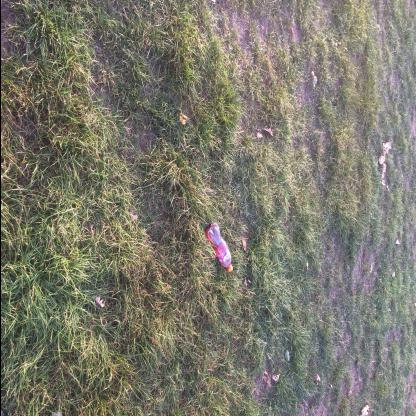plastik: (204, 223, 232, 272)
